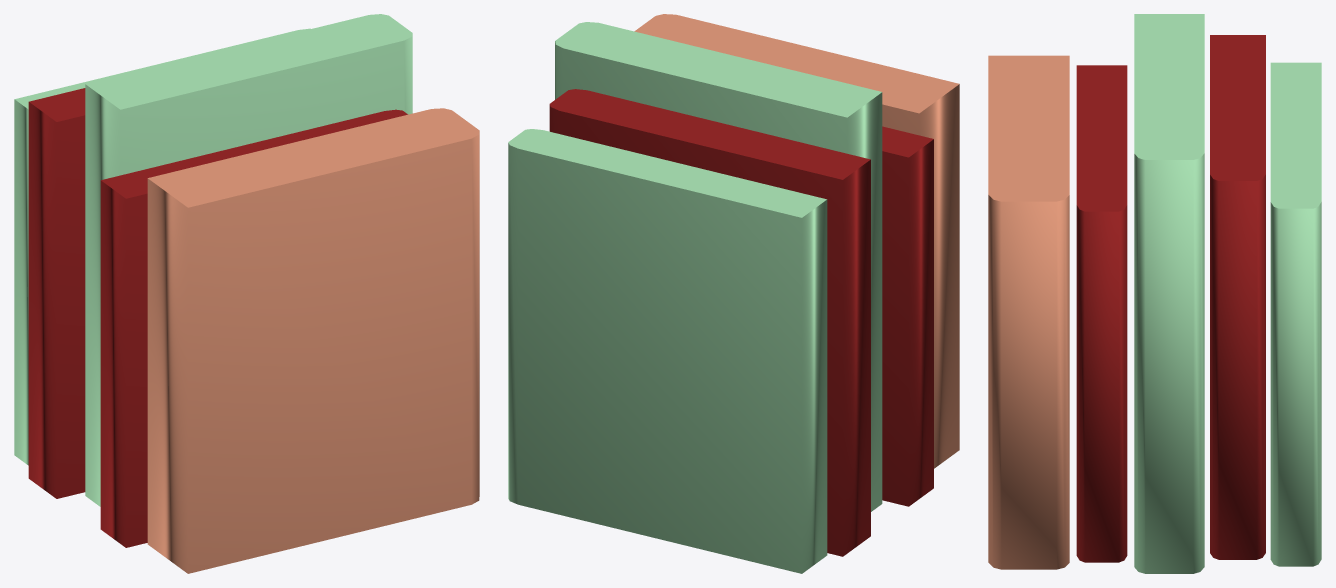
File: books.007.gltf
3 renders of one model, left to right at view 1: azimuth 30°, elevation 25°; view 2: azimuth 150°, elevation 25°; view 3: azimuth 270°, elevation 25°, orthographic.
Visible parts, largest first — view 1: books.007; view 2: books.007; view 3: books.007.
Part boxes in pixels (x1,y1,x2,y2): books.007: (14, 14, 479, 573); books.007: (508, 14, 959, 573); books.007: (988, 14, 1321, 573).
Size of the model in its own units: 1.03 by 1.26 by 0.9164.
